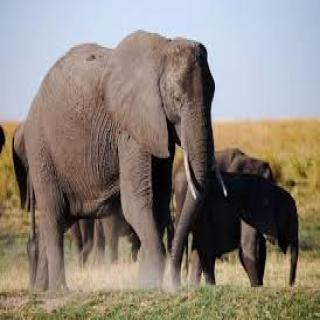Elephant: (23, 28, 230, 304)
